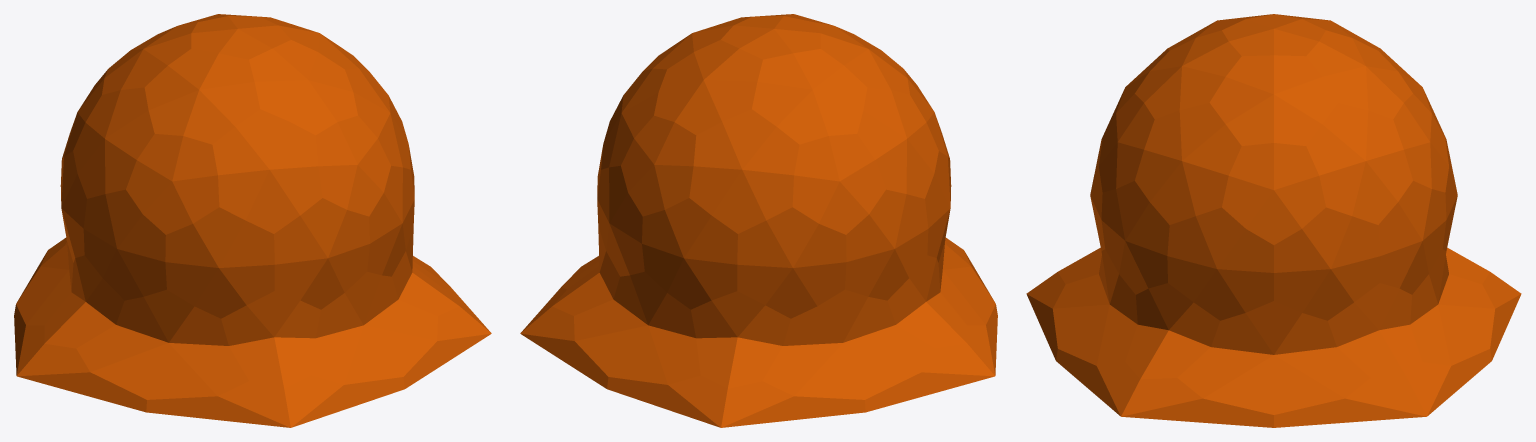
Rendered from blob.dae.
3 views of the same model, side by side, from view 1: azimuth 30°, elevation 25°; view 2: azimuth 150°, elevation 25°; view 3: azimuth 270°, elevation 25° (orthographic).
Parts seen in each view (by area): view 1: Icosphere; view 2: Icosphere; view 3: Icosphere.
Boxes of the visible parts, x1,y1,x2,y2 form: Icosphere: (14,14,491,427); Icosphere: (520,14,997,427); Icosphere: (1026,14,1521,427).
Bounding box in the file's own units: 2.53 × 2.56 × 1.75.
